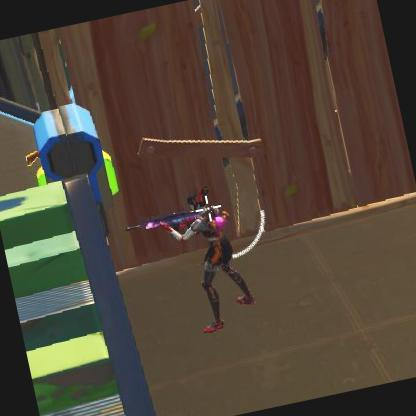person: (153, 201, 259, 335)
